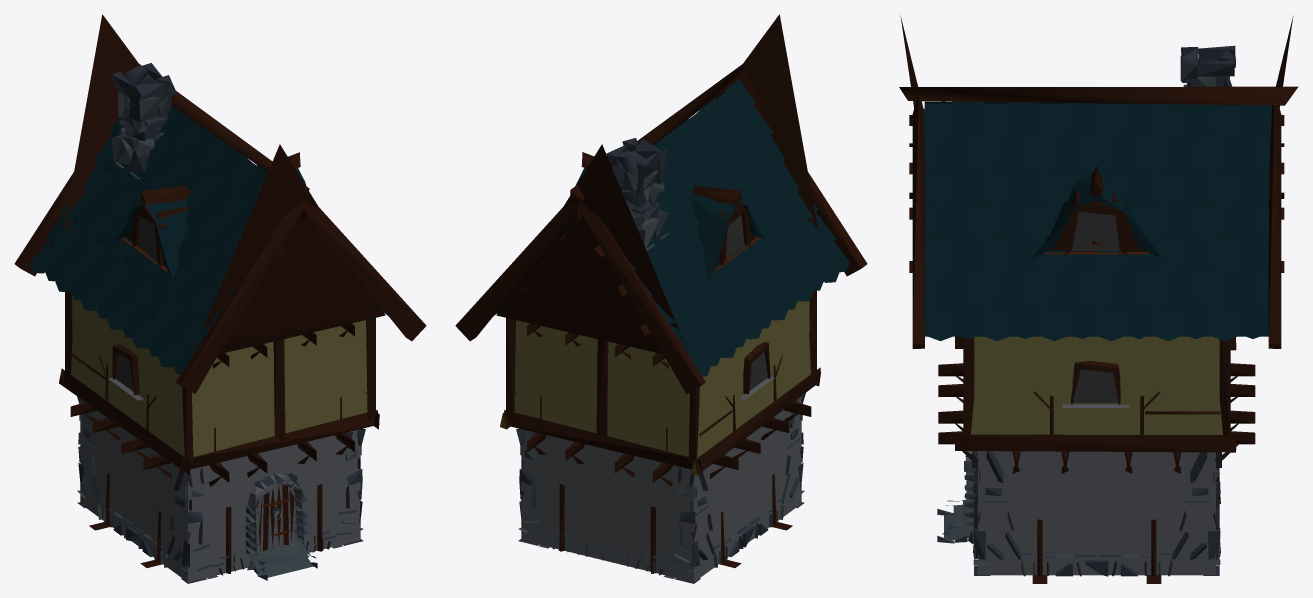
File: House_1.fbx
3 renders of one model, left to right at view 1: azimuth 30°, elevation 25°; view 2: azimuth 150°, elevation 25°; view 3: azimuth 270°, elevation 25°, orthographic. The views are drawn at different scales.
Parts seen in each view (by area): view 1: High_House_1, Low_House_1; view 2: High_House_1, Low_House_1; view 3: High_House_1, Low_House_1.
Boxes of the visible parts, x1,y1,x2,y2 form: High_House_1: (14,62,426,583); Low_House_1: (63,14,385,519); High_House_1: (455,63,867,583); Low_House_1: (496,14,818,348); High_House_1: (899,45,1298,583); Low_House_1: (900,16,1293,253).
Bounding box in the file's own units: 210 × 367 × 268.
